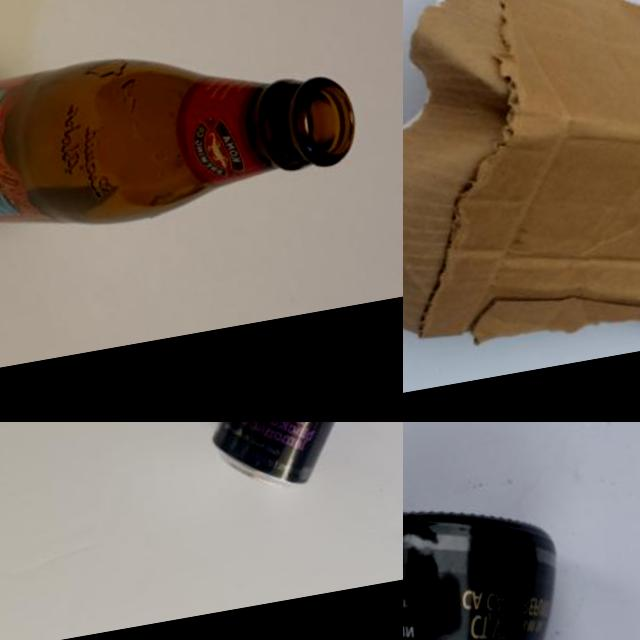garrafa de vidro: (0, 15, 371, 262), (403, 485, 593, 640)
lata: (185, 422, 402, 503)
papelão: (403, 0, 640, 360)
